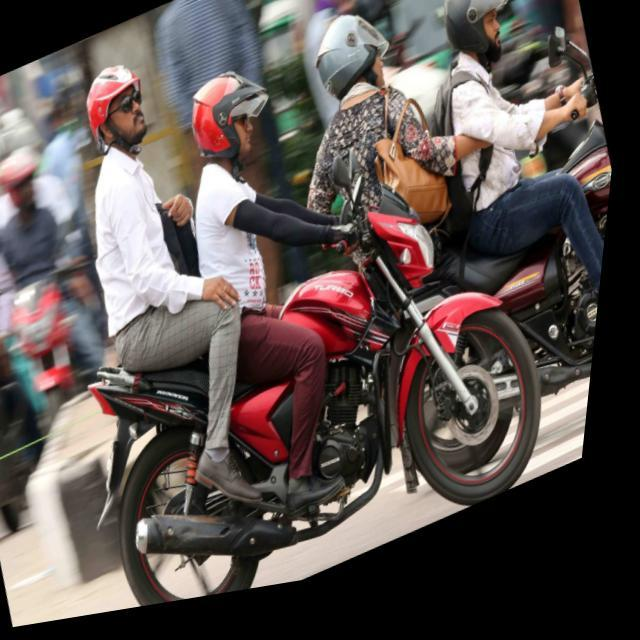Helmet: (180, 66, 272, 164), (310, 6, 394, 102), (82, 59, 154, 155), (439, 0, 516, 68)
